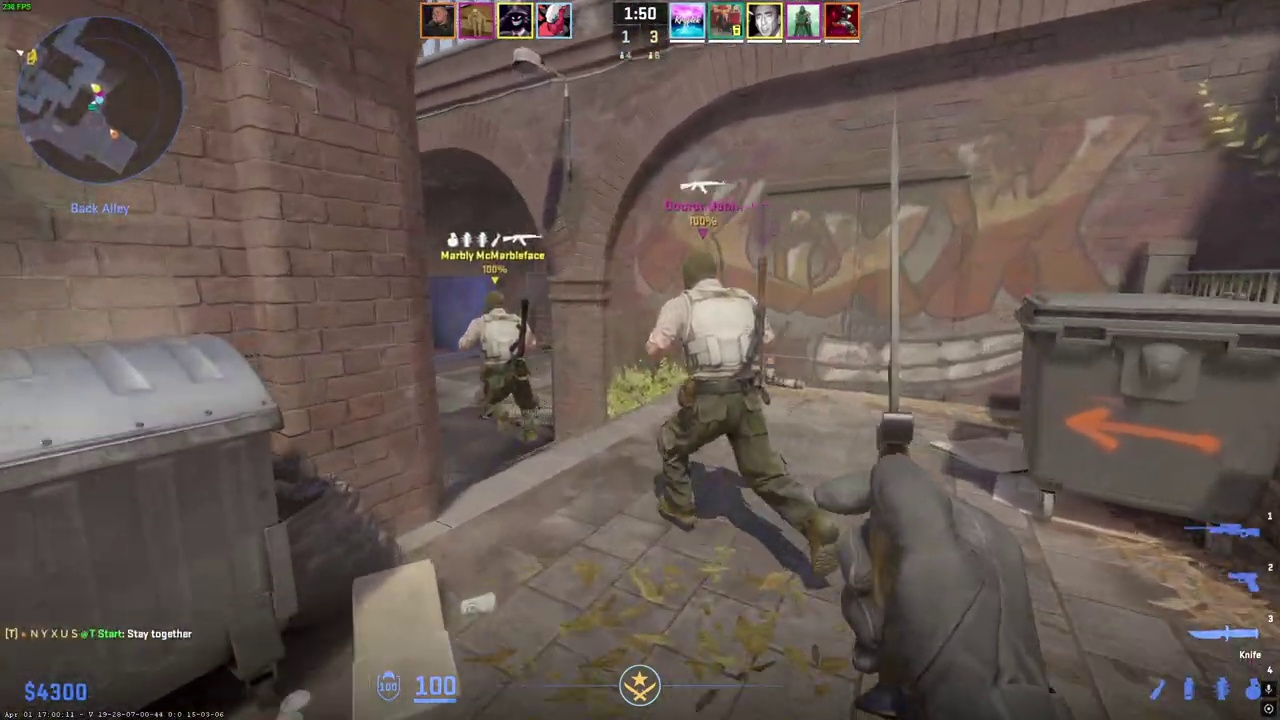Terrorist: (637, 247, 800, 569), (466, 289, 544, 450)
